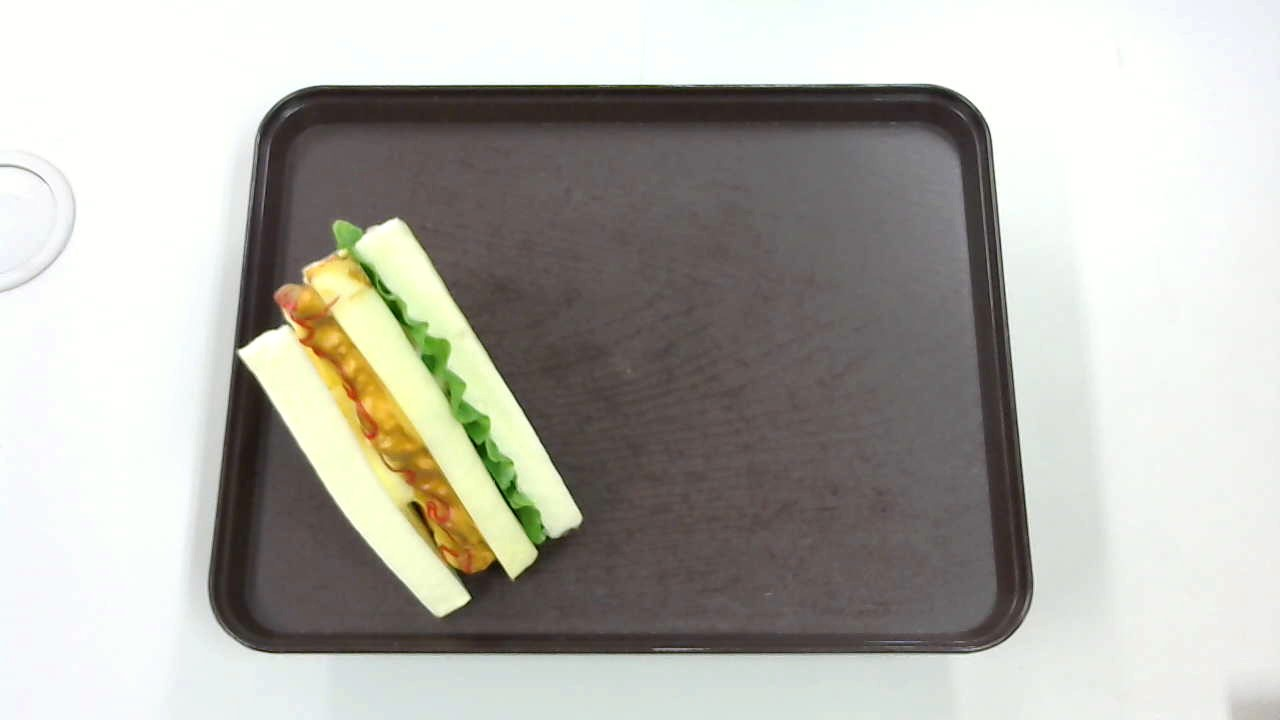sandwich: (236, 216, 584, 619)
